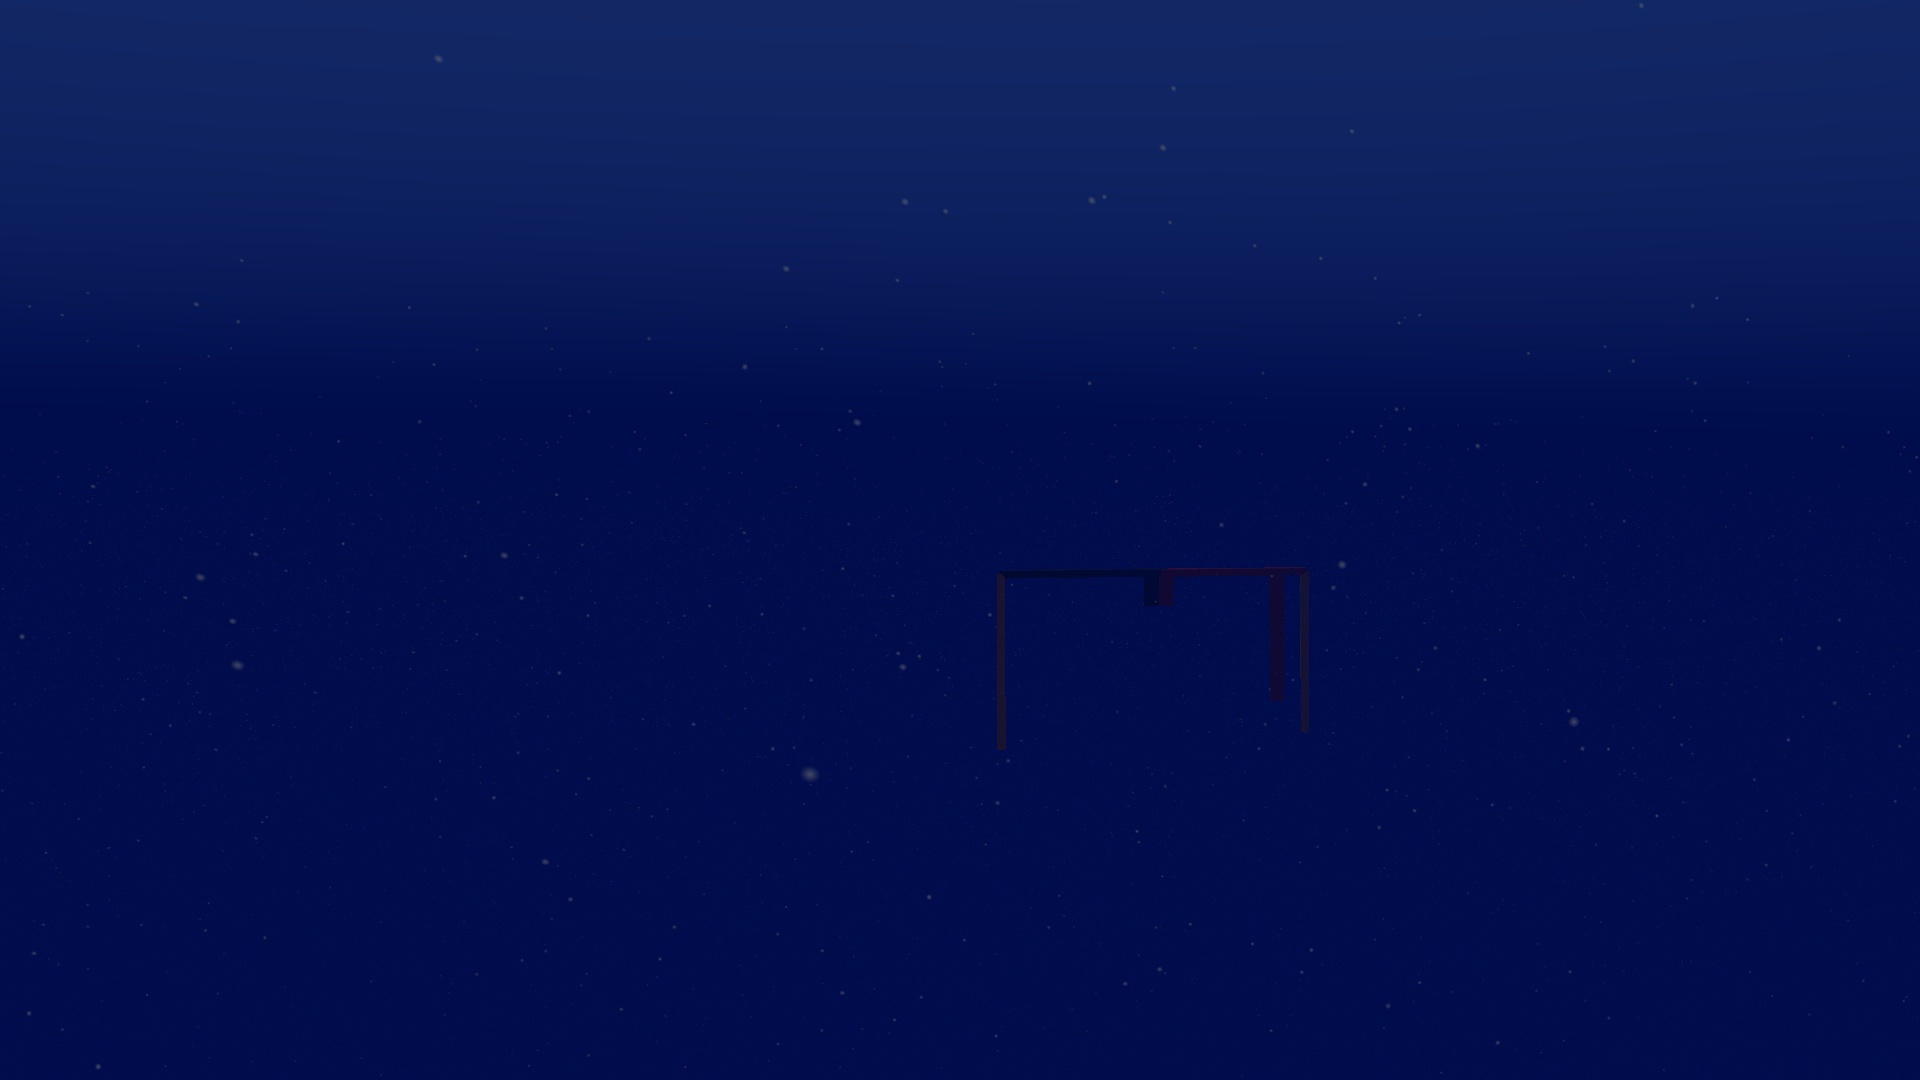Gate: (992, 564, 1319, 757)
